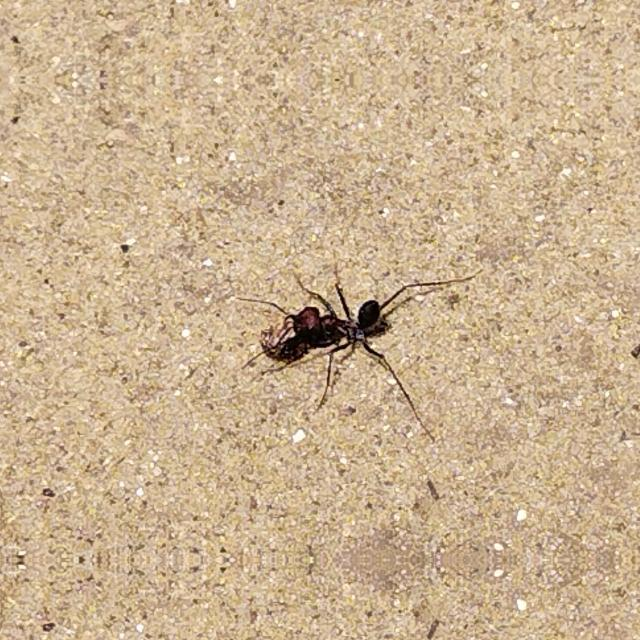Cataglyphis: (252, 276, 416, 386)
